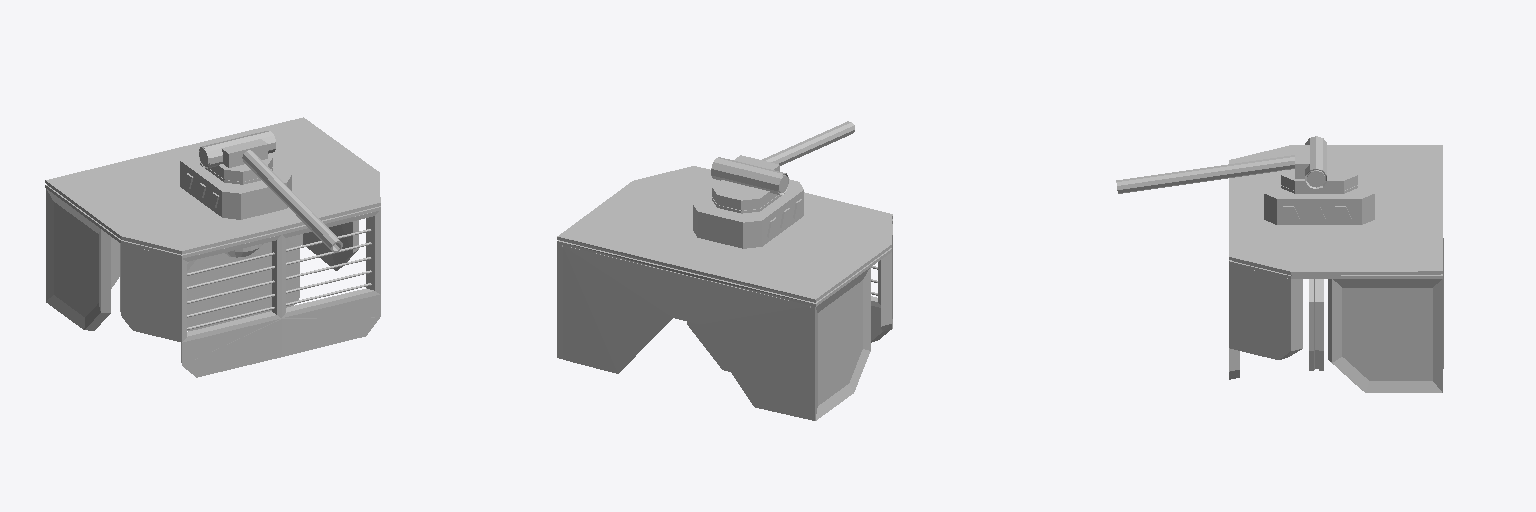
The model's file is boss.obj.
The picture shows the model from 3 angles: view 1: azimuth 30°, elevation 25°; view 2: azimuth 150°, elevation 25°; view 3: azimuth 270°, elevation 25°; orthographic projection.
Visible parts, largest first — view 1: polySurface53; view 2: polySurface53; view 3: polySurface53.
Boxes of the visible parts, <box> form: polySurface53: <box>45,117,380,377</box>; polySurface53: <box>557,121,892,420</box>; polySurface53: <box>1116,136,1443,392</box>.
Size of the model in its own units: 7.25 by 5.53 by 7.92.